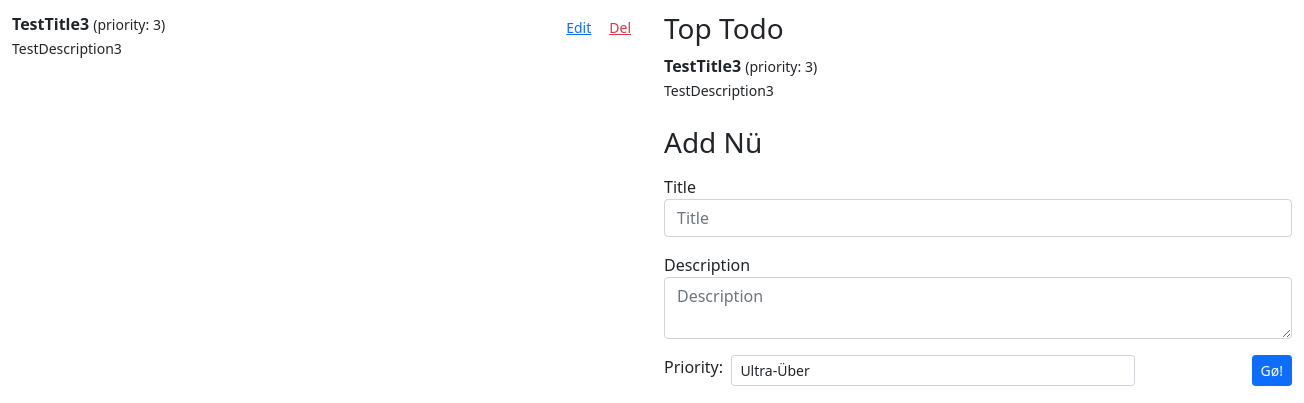
Test: TodoApp › checks if delete button removes todo, if no todos show message
Expected: the 1st text "TestTitle3" is shown, [12,13,89,35]
Expected: the text "TestTitle3" is shown 2 times, [12,13,89,35]; [664,55,741,77]
Click the button "Del".
click(620, 28)  # box [600,12,640,43]
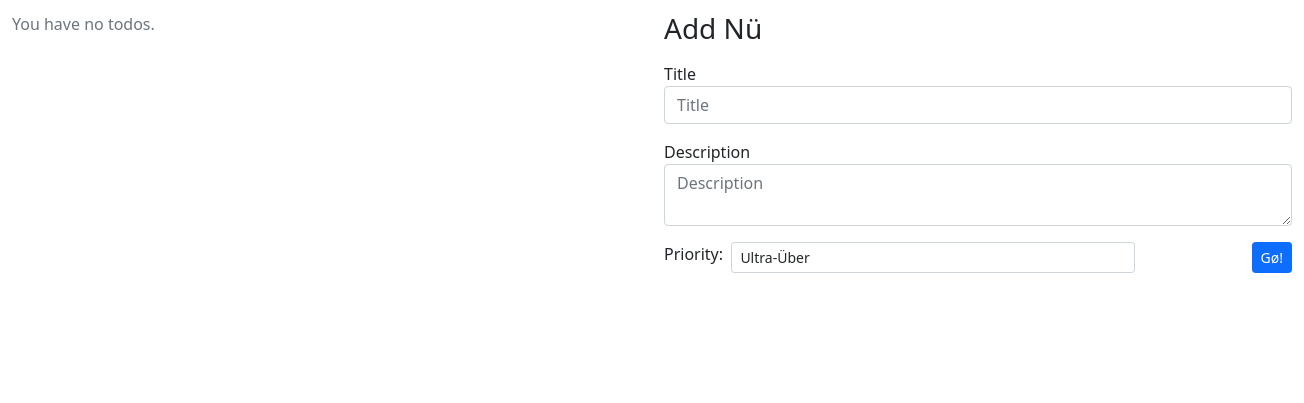
Now the text "TestTitle3" is gone
Now the text "You have no todos." is shown, box [12,13,155,35]
